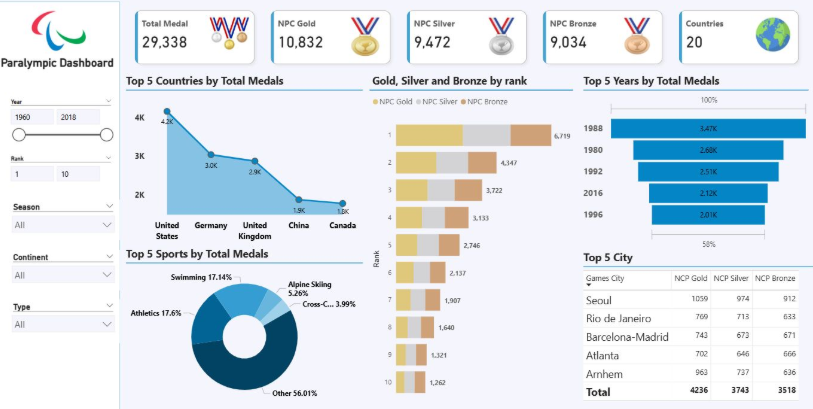

The dashboard page shown, as its layout file describes it:
{"tool":"powerbi","page":{"name":"Page 1","canvas":[1580,800],"ordinal":0},"visuals":[{"type":"cardVisual","fields":{"Data":["Measures (2).Total Medal","Measures (2).Gold","Measures (2).Silver","Measures (2).Bronze","Measures (2).Countries"]},"box":[251.4,12.9,1304.3,137.1],"z":0},{"type":"areaChart","title":"Top 5 Countries by Total Medals","fields":{"Category":["Sheet1.npc_name"],"Y":["Measures (2).Total Medal"]},"box":[251.4,150,452.9,322.9],"z":1000},{"type":"donutChart","title":"Top 5 Sports by Total Medals","fields":{"Category":["Sheet1.sport"],"Y":["Measures (2).Total Medal"]},"box":[251.4,480,452.9,307.1],"z":2000},{"type":"funnel","title":"Top 5 Years by Total Medals","fields":{"Category":["Sheet1.games_end.Variation.Date Hierarchy.Year"],"Y":["Measures (2).Total Medal"]},"box":[1125.7,150,430,337.1],"z":3000},{"type":"shape","box":[0,12.9,240,785.7],"z":4000},{"type":"pivotTable","title":"Top 5 City","fields":{"Rows":["Sheet1.games_city"],"Values":["Sum(Sheet1.npc_gold)","Sum(Sheet1.npc_silver)","Sum(Sheet1.npc_bronze)"]},"box":[1125.7,487.1,441.4,300],"z":5000},{"type":"slicer","fields":{"Values":["Sheet1.games_continent"]},"box":[22.9,487.1,217.1,77.1],"z":6000},{"type":"textbox","box":[7.1,112.9,230,68.6],"z":7000},{"type":"slicer","fields":{"Values":["Sheet1.games_season"]},"box":[22.9,391.4,217.1,77.1],"z":8000},{"type":"slicer","fields":{"Values":["Sheet1.rank_type"]},"box":[22.9,581.4,217.1,82.9],"z":9000},{"type":"slicer","fields":{"Values":["Sheet1.games_year"]},"box":[18.9,192.9,217.1,90],"z":10000},{"type":"slicer","fields":{"Values":["Sheet1.npc_rank"]},"box":[18.9,301.4,217.1,82.9],"z":11000},{"type":"barChart","title":"Gold, Silver and Bronze by rank","fields":{"Category":["Sheet1.npc_rank"],"Y":["Measures (2).NPC Gold","Measures (2).NPC Silver","Measures (2).NPC Bronze"]},"box":[717.1,150,388.6,637.1],"z":12000},{"type":"image","box":[21.4,24.3,202.9,88.6],"z":13000}]}

Visuals, with their boxes in screenshot pixels (x1, y1, x2, y2), scaled from the page's 1580x800 canvas onto the 813x409 screenshot:
cardVisual - Measures (2).Total Medal x Measures (2).Gold: rect(129, 7, 800, 77)
"Top 5 Countries by Total Medals" areaChart: rect(129, 77, 362, 242)
"Top 5 Sports by Total Medals" donutChart: rect(129, 245, 362, 402)
"Top 5 Years by Total Medals" funnel: rect(579, 77, 800, 249)
shape: rect(0, 7, 123, 408)
"Top 5 City" pivotTable: rect(579, 249, 806, 402)
slicer - Sheet1.games_continent: rect(12, 249, 123, 288)
textbox: rect(4, 58, 122, 93)
slicer - Sheet1.games_season: rect(12, 200, 123, 240)
slicer - Sheet1.rank_type: rect(12, 297, 123, 340)
slicer - Sheet1.games_year: rect(10, 99, 121, 145)
slicer - Sheet1.npc_rank: rect(10, 154, 121, 196)
"Gold, Silver and Bronze by rank" barChart: rect(369, 77, 569, 402)
image: rect(11, 12, 115, 58)
